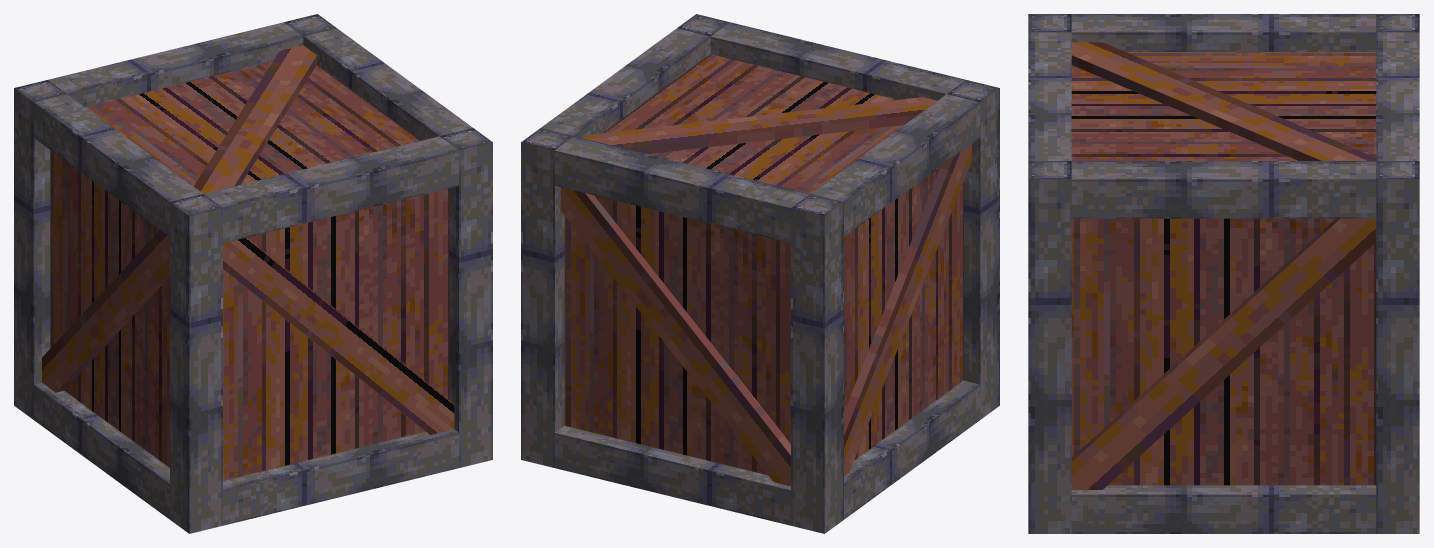
Rendered from Crate.fbx.
3 renders of one model, left to right at view 1: azimuth 30°, elevation 25°; view 2: azimuth 150°, elevation 25°; view 3: azimuth 270°, elevation 25°, orthographic. The views are drawn at different scales.
Visible parts, largest first — view 1: BoxWall, box, mesh_3, mesh_5, mesh_2; view 2: BoxWall, box, mesh_4, mesh_5, mesh_2; view 3: box, BoxWall, mesh_6, mesh_2.
Boxes of the visible parts, <box> form: BoxWall: <box>14,14,492,533</box>; box: <box>50,61,449,480</box>; mesh_3: <box>223,237,454,434</box>; mesh_5: <box>42,230,169,392</box>; mesh_2: <box>194,45,316,193</box>; BoxWall: <box>521,14,999,533</box>; box: <box>564,54,963,475</box>; mesh_4: <box>560,187,790,486</box>; mesh_5: <box>844,144,971,475</box>; mesh_2: <box>583,97,936,153</box>; box: <box>1071,52,1376,485</box>; BoxWall: <box>1028,14,1419,533</box>; mesh_6: <box>1071,218,1376,489</box>; mesh_2: <box>1071,42,1376,160</box>.
Size of the model in its own units: 113 by 113 by 112.
2 materials, 2 textured.
